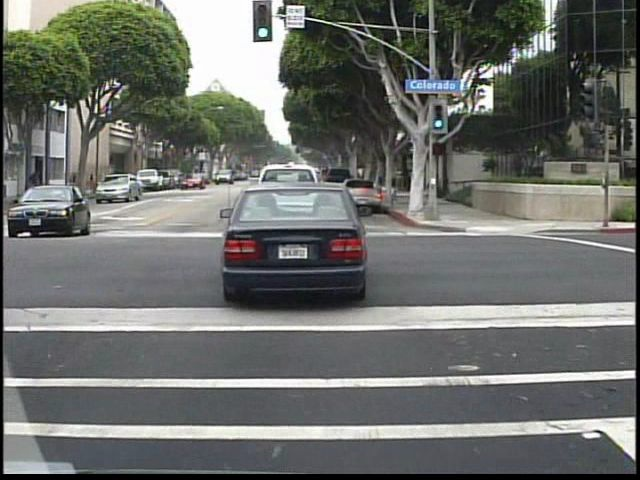person: (24, 169, 43, 207)
